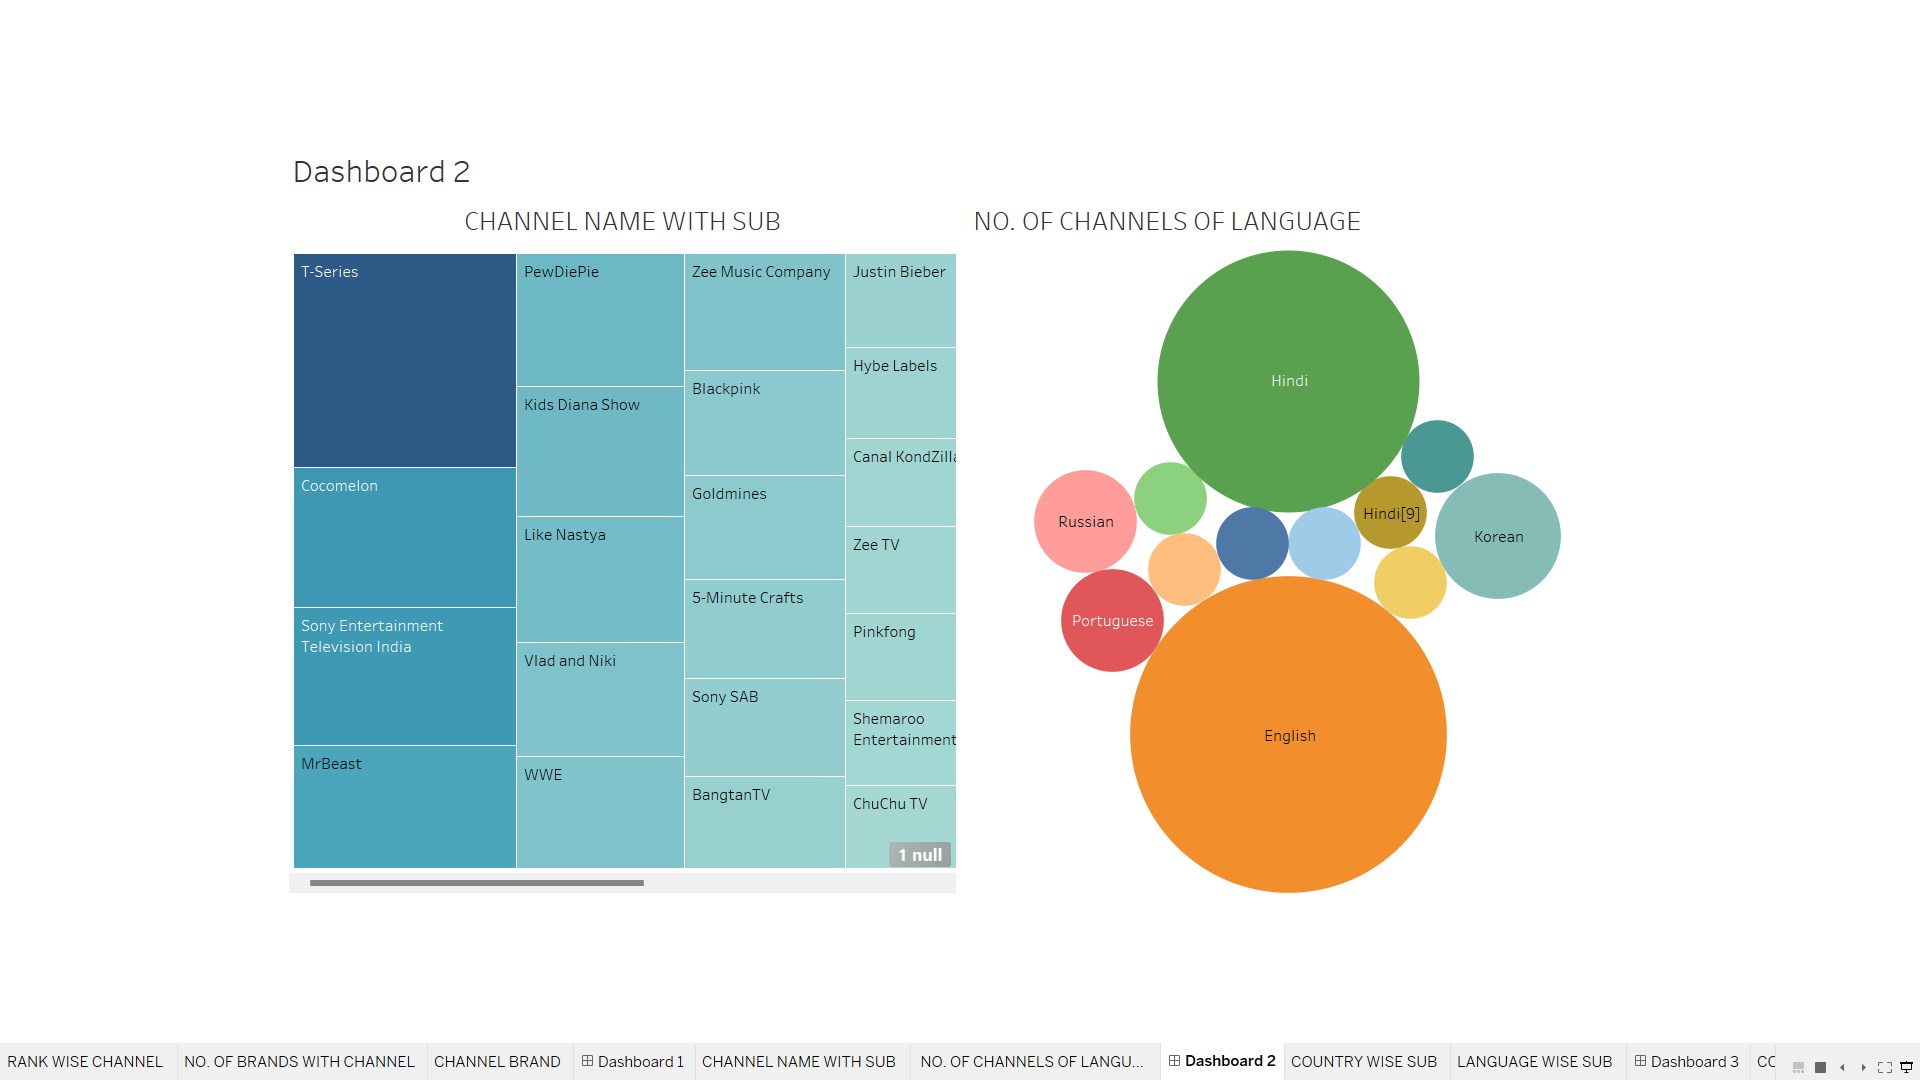

The dashboard page shown, as its layout file describes it:
{"tool":"tableau","page":{"name":"Dashboard 2","canvas":[1366,768],"ordinal":1},"visuals":[{"type":"title","box":[8,8,1350,50]},{"type":"worksheet","title":"CHANNEL NAME WITH SUB","mark":"Automatic","box":[8,58,675,702]},{"type":"worksheet","title":" NO. OF CHANNELS OF LANGUAGE","mark":"Circle","box":[683,58,675,702]}]}

Visuals, with their boxes on the page's 1366x768 design canvas (x1, y1, x2, y2). These are canvas units, not pixel positions in the 1920x1080 screenshot, which may show the page scaled, cropped or inside an application window:
title: bbox(8, 8, 1358, 58)
"CHANNEL NAME WITH SUB" worksheet: bbox(8, 58, 683, 760)
" NO. OF CHANNELS OF LANGUAGE" worksheet (Circle marks): bbox(683, 58, 1358, 760)
